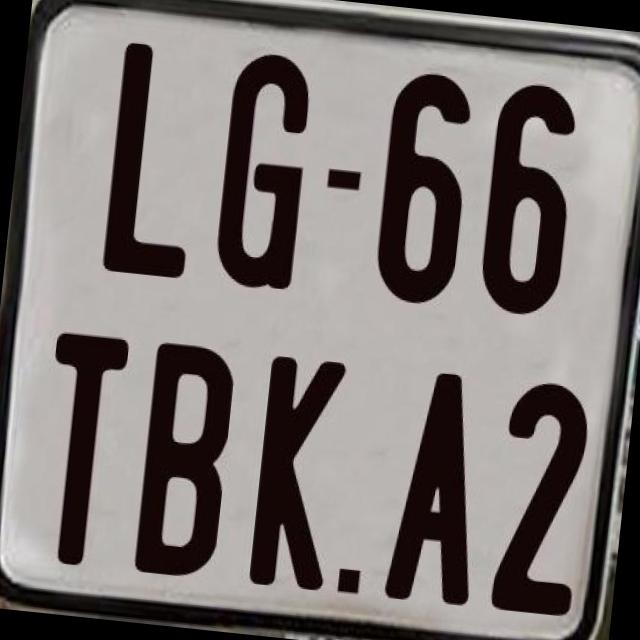2: (485, 379, 593, 621)
6: (472, 78, 582, 326), (370, 65, 478, 312)
A: (382, 364, 492, 610)
B: (130, 338, 236, 585)
G: (208, 50, 318, 293)
K: (247, 355, 353, 591)
L: (100, 37, 210, 282)
T: (32, 331, 134, 568)
